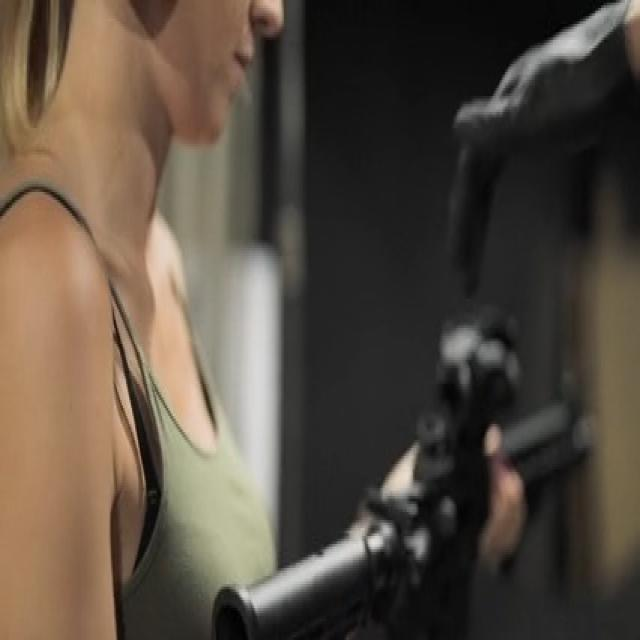Gun_Holder: (237, 278, 640, 640)
Person: (0, 0, 343, 583)
